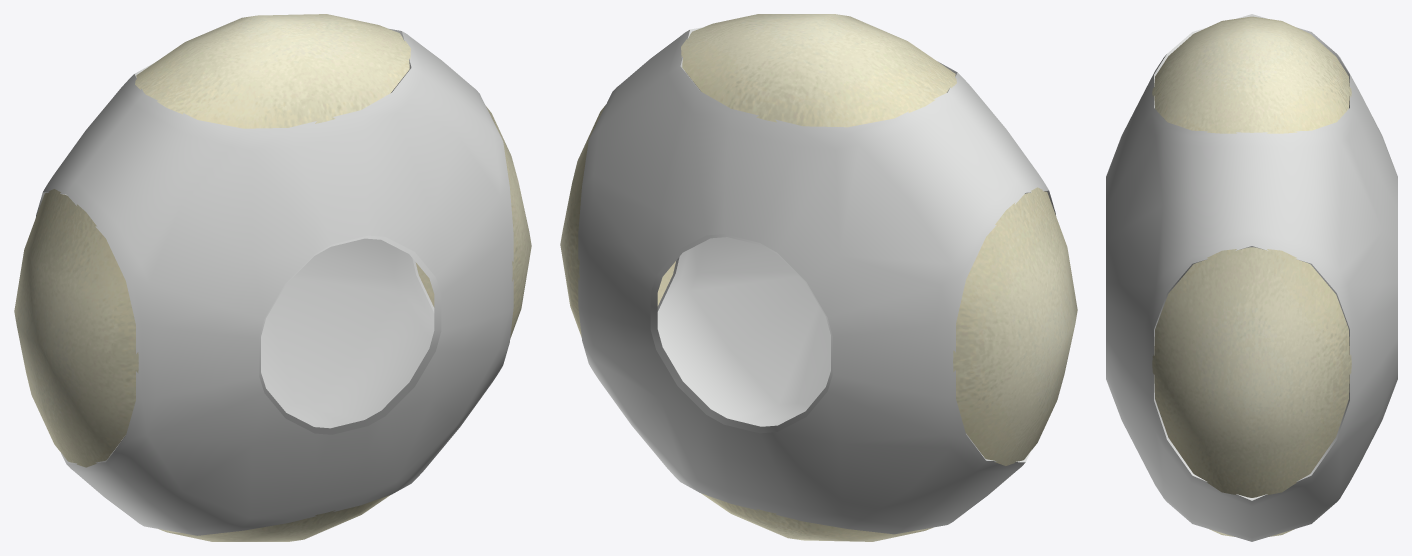
Rendered from nt_2020_light_fixture_LOD2.obj.
The picture shows the model from 3 angles, left to right: view 1: azimuth 30°, elevation 25°; view 2: azimuth 150°, elevation 25°; view 3: azimuth 270°, elevation 25°; orthographic projection. The views are drawn at different scales.
Visible parts, largest first — view 1: mtl_nt_2020_light_fixture, glass_frosted_lit; view 2: mtl_nt_2020_light_fixture, glass_frosted_lit; view 3: mtl_nt_2020_light_fixture, glass_frosted_lit.
Boxes of the visible parts, bbox=[...] form: mtl_nt_2020_light_fixture: bbox=[36, 28, 513, 535]; glass_frosted_lit: bbox=[14, 14, 531, 541]; mtl_nt_2020_light_fixture: bbox=[578, 27, 1055, 534]; glass_frosted_lit: bbox=[560, 14, 1077, 541]; mtl_nt_2020_light_fixture: bbox=[1106, 14, 1397, 541]; glass_frosted_lit: bbox=[1152, 16, 1351, 536].
Bounding box in the file's own units: 43.22 × 43.22 × 23.61.
